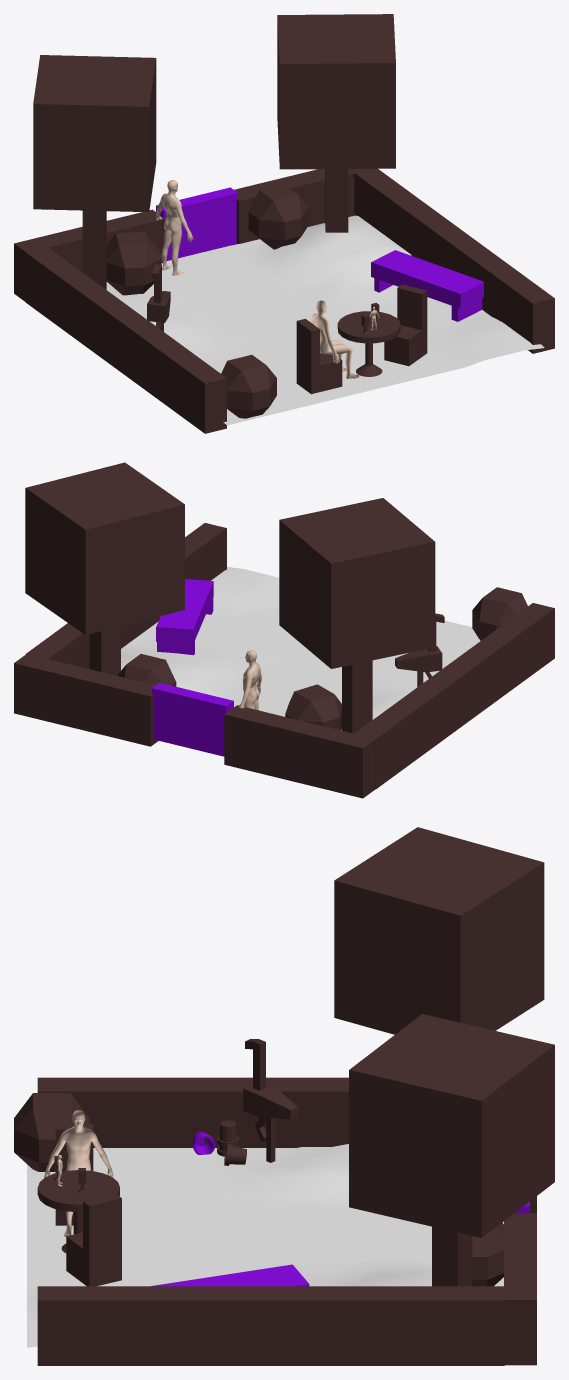
File: Blockout_Garden.fbx
The picture shows the model from 3 angles, top to bottom: view 1: azimuth 30°, elevation 25°; view 2: azimuth 150°, elevation 25°; view 3: azimuth 270°, elevation 25°; orthographic projection. The views are drawn at different scales.
Visible parts, largest first — view 1: Walls_floor, Hedge, Tree2, Tree1, Bench_or_solstol_idk, Fence, Bush1, Bush2, Bush3, Gardenchair2, Gardenchair1, Gardentable (+3 smaller); view 2: Hedge, Tree2, Tree1, Walls_floor, Fence, Bench_or_solstol_idk, Bush2, Bush3, Bush1, Flamingo, Bigboi; view 3: Hedge, Tree1, Walls_floor, Tree2, Gardenchair2, Bush3, Flamingo, Gardentable, Sittingboi, Bench_or_solstol_idk, Bush1, Gardenchair1.
Boxes of the visible parts, x1,y1,x2,y2 form: Walls_floor: (106, 215, 544, 425); Hedge: (14, 168, 554, 433); Tree2: (33, 55, 156, 289); Tree1: (277, 14, 395, 232); Bench_or_solstol_idk: (371, 250, 483, 321); Fence: (156, 187, 237, 260); Bush1: (248, 184, 308, 249); Bush2: (106, 232, 161, 295); Bush3: (221, 355, 276, 418); Gardenchair2: (384, 284, 427, 366); Gardenchair1: (296, 318, 342, 394); Gardentable: (337, 311, 400, 376); Hedge: (14, 523, 554, 798); Tree2: (279, 498, 435, 733); Tree1: (25, 462, 184, 675); Walls_floor: (121, 567, 480, 730); Fence: (152, 682, 233, 756); Bench_or_solstol_idk: (156, 579, 213, 655); Bush2: (285, 684, 341, 730); Bush3: (472, 587, 527, 640); Bush1: (117, 654, 176, 686); Flamingo: (395, 613, 444, 686); Bigboi: (238, 650, 261, 710); Hedge: (37, 1077, 536, 1365); Tree1: (349, 1014, 554, 1286); Walls_floor: (27, 1144, 503, 1347); Tree2: (334, 827, 544, 1034); Gardenchair2: (66, 1193, 121, 1286); Bush3: (14, 1093, 89, 1171); Flamingo: (243, 1039, 297, 1162); Gardentable: (37, 1170, 119, 1252); Sittingboi: (44, 1110, 113, 1236); Bench_or_solstol_idk: (151, 1264, 309, 1286); Bush1: (472, 1222, 503, 1286); Gardenchair1: (55, 1124, 93, 1225).
Bounding box in the file's own units: 2546 × 1451 × 2376.
